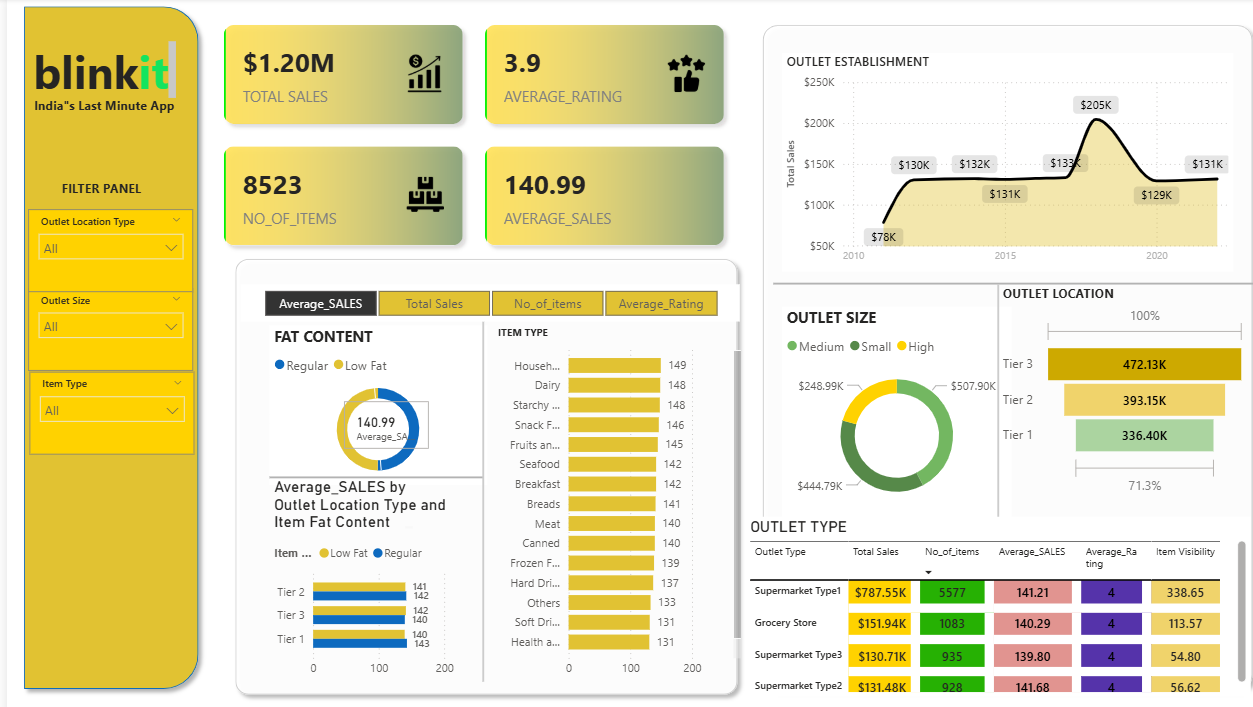

This screenshot's page, from the dashboard's own definition file:
{"tool":"powerbi","page":{"name":"Page 1","canvas":[1400,800],"ordinal":0},"visuals":[{"type":"shape","box":[10,0,205,750],"z":0},{"type":"textbox","box":[24,100.6,162.1,33],"z":1000},{"type":"textbox","box":[514.8,675.4,204.1,75],"z":2000},{"type":"textbox","box":[337.7,675.4,204.1,124.6],"z":3000},{"type":"textbox","box":[22.5,42,163.6,72],"z":4000},{"type":"textbox","box":[235.6,561.3,204.1,12],"z":5000},{"type":"cardVisual","fields":{"Data":["BlinkIT Grocery Data.Total Sales","BlinkIT Grocery Data.Average_Rating","BlinkIT Grocery Data.No_of_items","BlinkIT Grocery Data.Average_SALES"]},"box":[216.1,12,570.3,270.2],"z":6000},{"type":"shape","box":[235.9,270.8,556.3,485.3],"z":7000},{"type":"donutChart","title":"FAT CONTENT","fields":{"Y":["BlinkIT Grocery Data.Average_SALES","BlinkIT Grocery Data.Average_Rating"],"Category":["BlinkIT Grocery Data.Item Fat Content"]},"box":[281.5,351.2,233.2,171.6],"z":8000},{"type":"slicer","fields":{"Values":["METRICS.METRICS"]},"box":[250.7,307,534.9,40.2],"z":9000},{"type":"cardVisual","fields":{"Data":["BlinkIT Grocery Data.Average_SALES"]},"box":[356.6,427.6,101.9,61.7],"z":10000},{"type":"clusteredBarChart","fields":{"Y":["BlinkIT Grocery Data.Average_SALES"],"Category":["BlinkIT Grocery Data.Outlet Location Type"],"Series":["BlinkIT Grocery Data.Item Fat Content"]},"box":[281.5,513.4,229.2,223.9],"z":11000},{"type":"shape","box":[281.5,445,229.2,138.1],"z":12000},{"type":"shape","box":[360.6,347.2,300.3,386.1],"z":13000},{"type":"barChart","title":"ITEM TYPE","fields":{"Y":["BlinkIT Grocery Data.Average_SALES"],"Category":["BlinkIT Grocery Data.Item Type"]},"box":[521.5,351.2,270.8,386.1],"z":14000},{"type":"shape","box":[801.6,20.1,542.9,730.6],"z":15000},{"type":"lineChart","title":"OUTLET ESTABLISHMENT","fields":{"Y":["BlinkIT Grocery Data.Total Sales"],"Category":["BlinkIT Grocery Data.Outlet Establishment Year"]},"box":[831.1,59,483.9,234.6],"z":16000},{"type":"shape","box":[821.7,237.3,522.8,138.1],"z":17000},{"type":"donutChart","title":"OUTLET SIZE","fields":{"Category":["BlinkIT Grocery Data.Outlet Size"],"Y":["BlinkIT Grocery Data.Total Sales"]},"box":[831.1,331.1,246.7,225.2],"z":18000},{"type":"shape","box":[912.9,307,300.3,426.3],"z":19000},{"type":"funnel","title":"OUTLET LOCATION","fields":{"Category":["BlinkIT Grocery Data.Outlet Location Type"],"Y":["Sum(BlinkIT Grocery Data.Sales)"]},"box":[1063,307,270.8,230.6],"z":20000},{"type":"pivotTable","title":"OUTLET TYPE","fields":{"Rows":["BlinkIT Grocery Data.Outlet Type"],"Values":["BlinkIT Grocery Data.Total Sales","BlinkIT Grocery Data.No_of_items","BlinkIT Grocery Data.Average_SALES","BlinkIT Grocery Data.Average_Rating","Sum(BlinkIT Grocery Data.Item Visibility)"]},"box":[792.2,556.3,541.6,193],"z":21000},{"type":"slicer","fields":{"Values":["BlinkIT Grocery Data.Item Type"]},"box":[24.1,400.8,176.9,88.5],"z":22000},{"type":"slicer","fields":{"Values":["BlinkIT Grocery Data.Outlet Size"]},"box":[22.8,311,176.9,88.5],"z":23000},{"type":"slicer","fields":{"Values":["BlinkIT Grocery Data.Outlet Location Type"]},"box":[22.8,226.5,176.9,88.5],"z":24000},{"type":"textbox","box":[53.6,190.3,171.6,46.9],"z":25000}]}

Visuals, with their boxes in screenshot pixels (x1, y1, x2, y2), scaled from the page's 1400x800 canvas onto the 1253x707 screenshot:
shape: (9, 0, 192, 663)
textbox: (21, 89, 167, 118)
textbox: (461, 597, 643, 663)
textbox: (302, 597, 485, 706)
textbox: (20, 37, 167, 101)
textbox: (211, 496, 394, 507)
cardVisual - BlinkIT Grocery Data.Total Sales x BlinkIT Grocery Data.Average_Rating: (193, 11, 704, 249)
shape: (211, 239, 709, 668)
"FAT CONTENT" donutChart: (252, 310, 461, 462)
slicer - METRICS.METRICS: (224, 271, 703, 307)
cardVisual - BlinkIT Grocery Data.Average_SALES: (319, 378, 410, 432)
clusteredBarChart - BlinkIT Grocery Data.Average_SALES x BlinkIT Grocery Data.Outlet Location Type: (252, 454, 457, 652)
shape: (252, 393, 457, 515)
shape: (323, 307, 592, 648)
"ITEM TYPE" barChart: (467, 310, 709, 652)
shape: (717, 18, 1203, 663)
"OUTLET ESTABLISHMENT" lineChart: (744, 52, 1177, 259)
shape: (735, 210, 1203, 332)
"OUTLET SIZE" donutChart: (744, 293, 965, 492)
shape: (817, 271, 1086, 648)
"OUTLET LOCATION" funnel: (951, 271, 1194, 475)
"OUTLET TYPE" pivotTable: (709, 492, 1194, 662)
slicer - BlinkIT Grocery Data.Item Type: (22, 354, 180, 432)
slicer - BlinkIT Grocery Data.Outlet Size: (20, 275, 179, 353)
slicer - BlinkIT Grocery Data.Outlet Location Type: (20, 200, 179, 278)
textbox: (48, 168, 202, 210)
